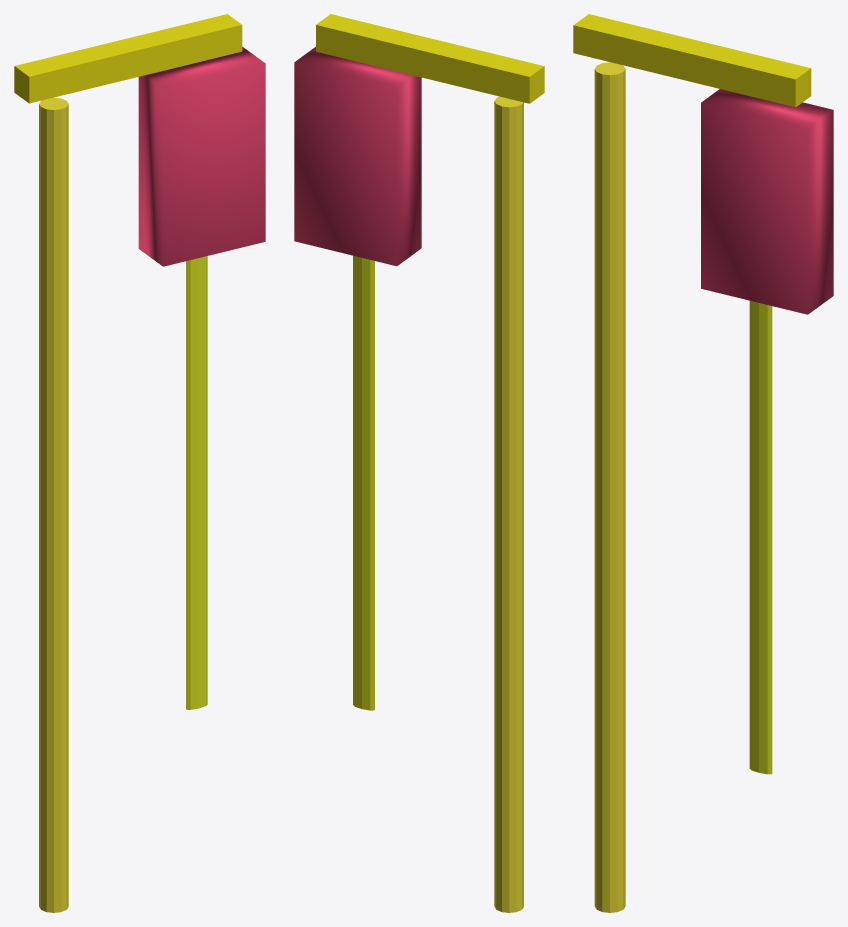
The model's file is Iv stand.glb.
The picture shows the model from 3 angles, left to right: view 1: azimuth 30°, elevation 25°; view 2: azimuth 150°, elevation 25°; view 3: azimuth 330°, elevation 25°; orthographic projection. The views are drawn at different scales.
Parts seen in each view (by area): view 1: Cube.007, Cylinder.001, Cylinder.008, Cube.006; view 2: Cube.007, Cylinder.001, Cylinder.008, Cube.006; view 3: Cylinder.001, Cube.007, Cylinder.008, Cube.006.
Part boxes in pixels (<box>): Cube.007: <box>138,46,265,266</box>; Cylinder.001: <box>39,97,68,912</box>; Cylinder.008: <box>186,256,207,709</box>; Cube.006: <box>14,14,242,103</box>; Cube.007: <box>294,47,421,266</box>; Cylinder.001: <box>494,96,523,912</box>; Cylinder.008: <box>353,255,374,710</box>; Cube.006: <box>316,14,544,103</box>; Cylinder.001: <box>594,62,625,912</box>; Cube.007: <box>701,89,833,314</box>; Cylinder.008: <box>749,300,772,774</box>; Cube.006: <box>573,14,811,107</box>.
Bounding box in the file's own units: 0.5407 × 1.89 × 0.1.
